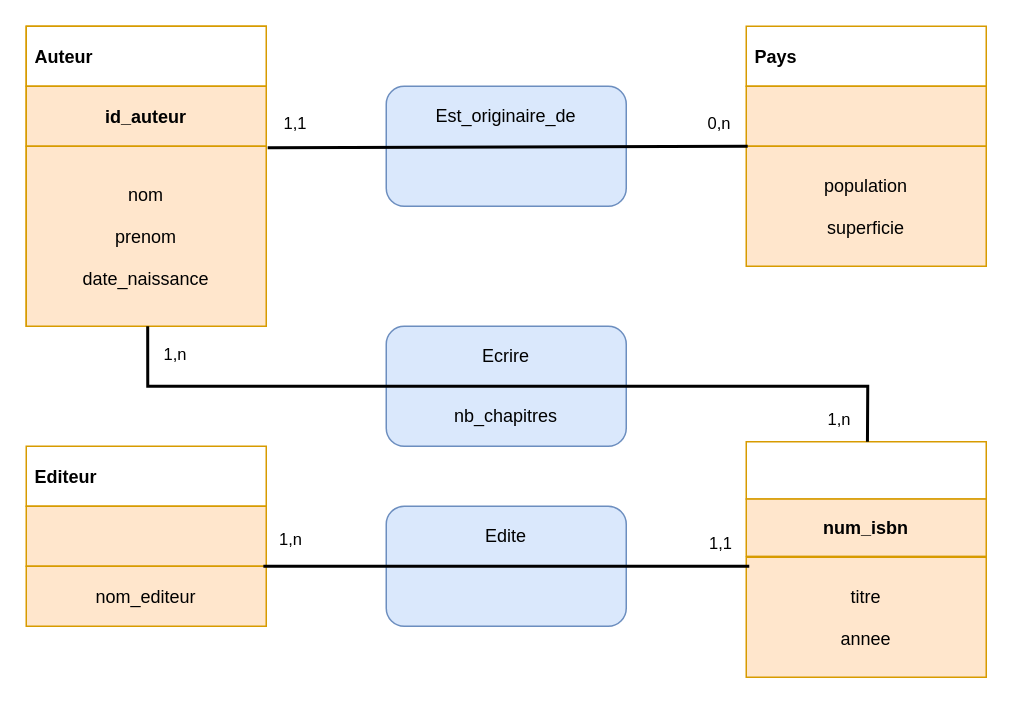
Some shapes in this 1013 by 708 pixel diagram are drawn without their labels. Each missing label, with the centre of its shape:
Livre: (x=865, y=469)
nom_pays: (x=865, y=115)
num_siret: (x=145, y=535)
